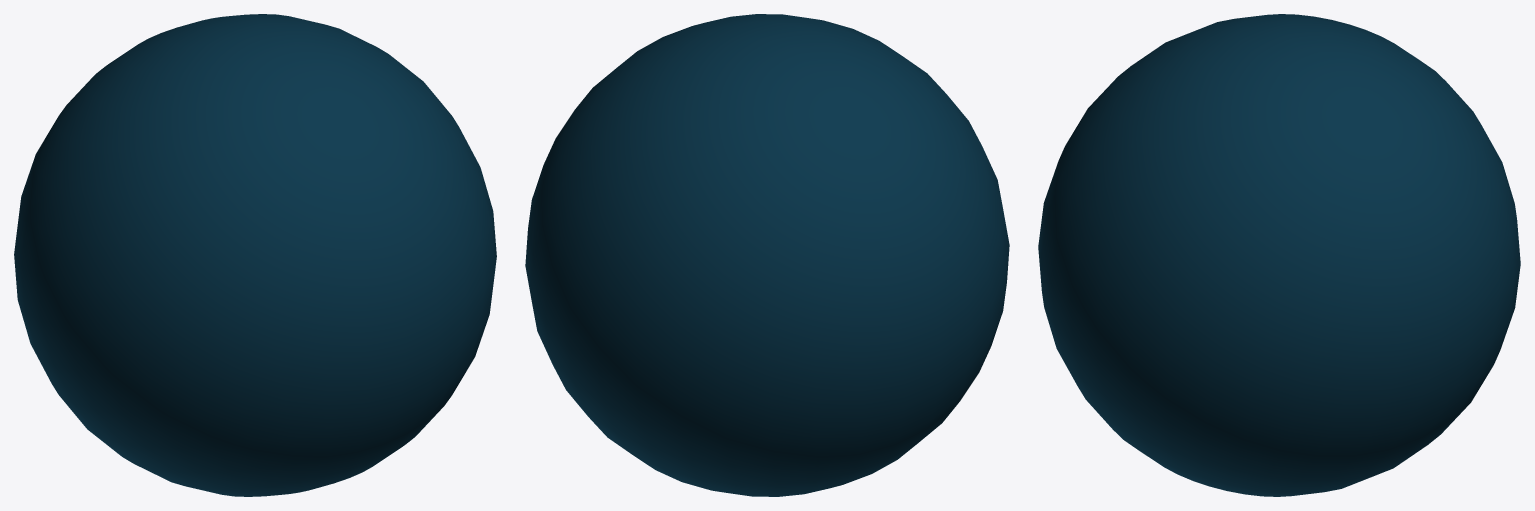
3 views of the same model, side by side, from view 1: azimuth 30°, elevation 25°; view 2: azimuth 150°, elevation 25°; view 3: azimuth 270°, elevation 25° (orthographic).
Parts seen in each view (by area): view 1: Sphere.001; view 2: Sphere.001; view 3: Sphere.001.
Boxes of the visible parts, bbox=[...] form: Sphere.001: bbox=[14, 14, 496, 496]; Sphere.001: bbox=[525, 14, 1009, 496]; Sphere.001: bbox=[1038, 14, 1520, 496].
Size of what is drawn, in the model's own units: 2.02 by 2.03 by 2.03.
